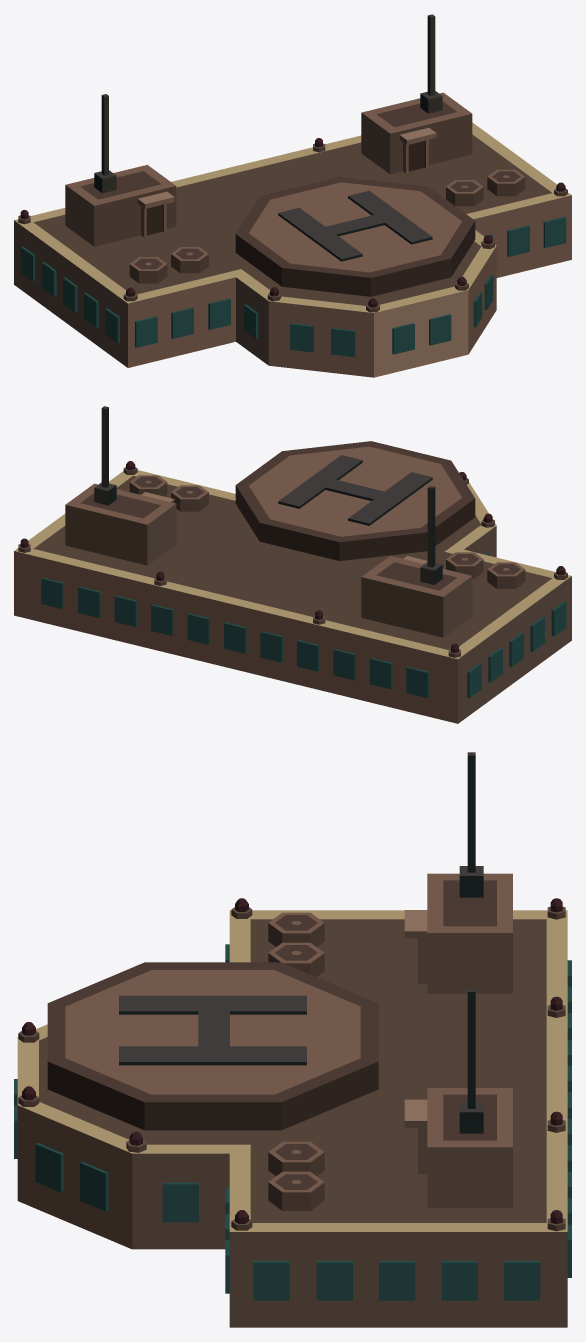
The model's file is TB_CITY_Skysc_O_Top_Brown.FBX.
3 views of the same model, one above another, from view 1: azimuth 30°, elevation 25°; view 2: azimuth 150°, elevation 25°; view 3: azimuth 270°, elevation 25° (orthographic). The views are drawn at different scales.
Visible parts, largest first — view 1: TB_CITY_Skysc_O_Top_Brown; view 2: TB_CITY_Skysc_O_Top_Brown; view 3: TB_CITY_Skysc_O_Top_Brown.
Part boxes in pixels (box(x1,y1,x2,y2)): TB_CITY_Skysc_O_Top_Brown: box(14, 14, 571, 377); TB_CITY_Skysc_O_Top_Brown: box(14, 406, 571, 723); TB_CITY_Skysc_O_Top_Brown: box(14, 752, 571, 1327).
Size of the model in its own units: 36.39 by 15.39 by 26.39.
